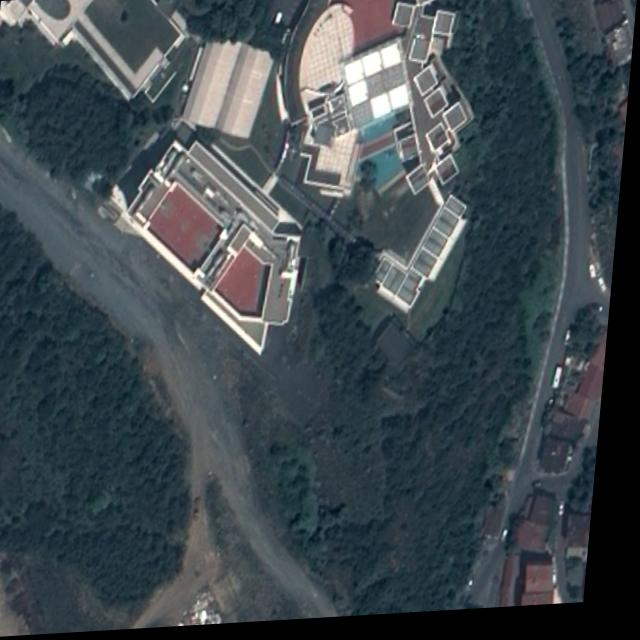Batiment: (549, 309, 614, 481), (185, 44, 273, 139), (511, 495, 567, 611), (152, 187, 224, 270), (331, 0, 402, 54), (220, 249, 274, 318)
